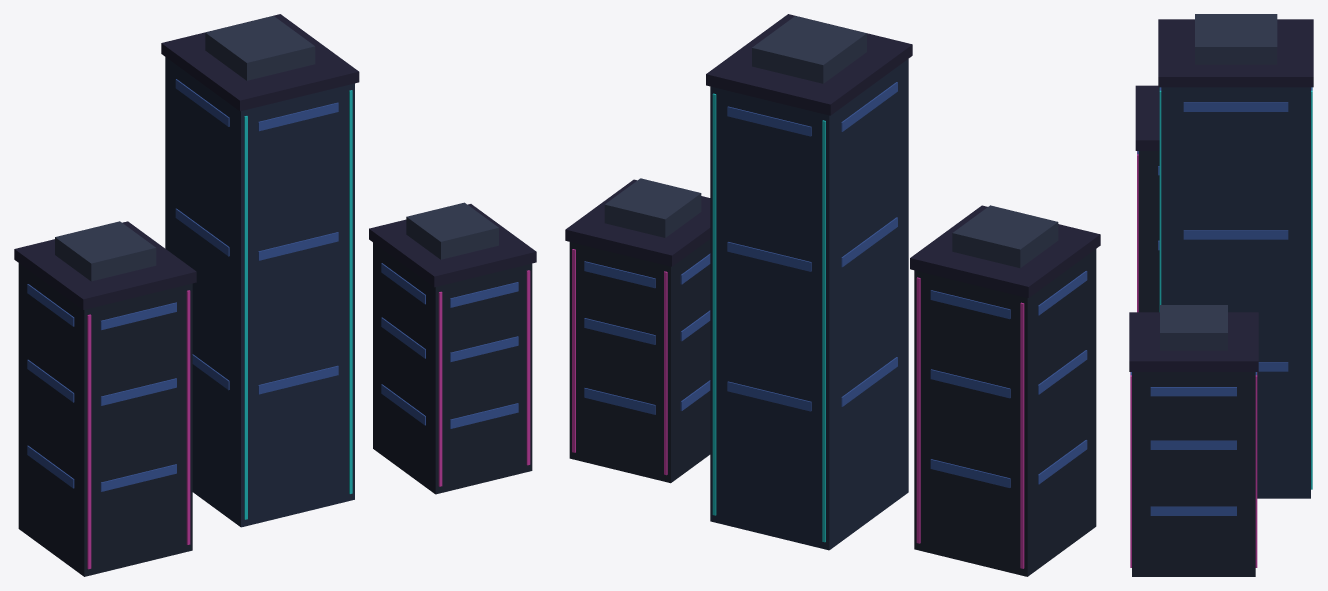
Rendered from Neon_SkylineBlock_Standard.glb.
3 views of the same model, side by side, from view 1: azimuth 30°, elevation 25°; view 2: azimuth 150°, elevation 25°; view 3: azimuth 270°, elevation 25° (orthographic). The views are drawn at different scales.
Parts seen in each view (by area): view 1: Neon_SkylineBlock_Standard; view 2: Neon_SkylineBlock_Standard; view 3: Neon_SkylineBlock_Standard.
Boxes of the visible parts, x1=… form: Neon_SkylineBlock_Standard: x1=14, y1=14, x2=536, y2=576; Neon_SkylineBlock_Standard: x1=565, y1=14, x2=1100, y2=576; Neon_SkylineBlock_Standard: x1=1129, y1=14, x2=1313, y2=576.
Bounding box in the file's own units: 15.78 × 14.96 × 5.68.
